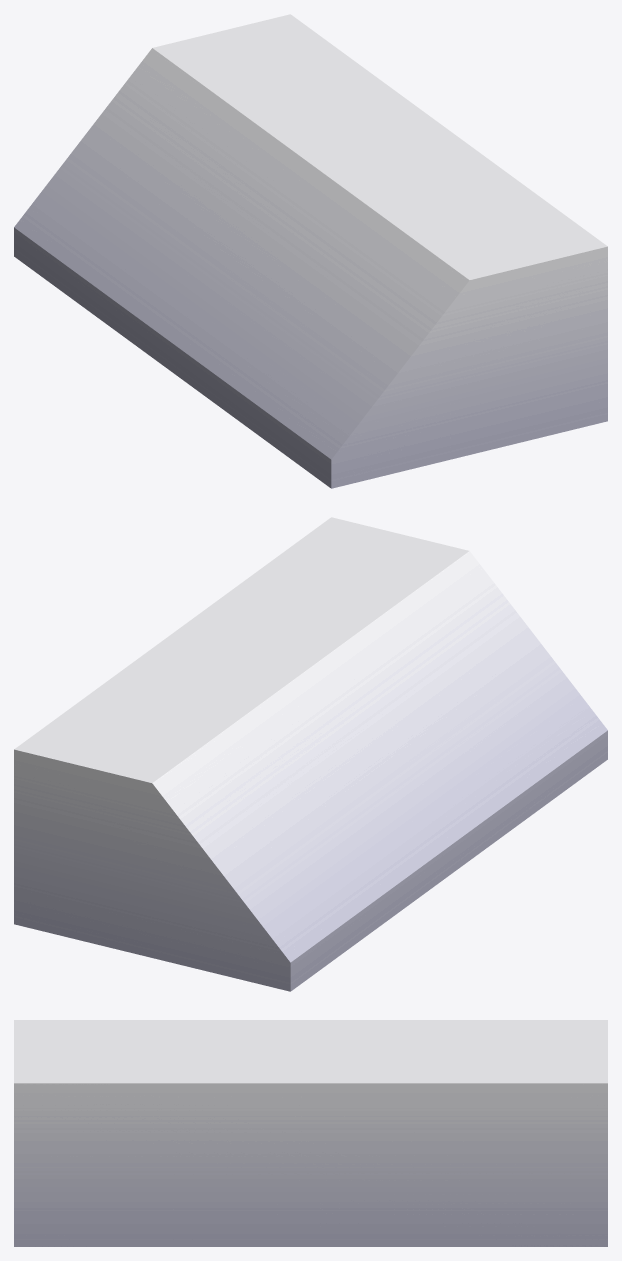
File: none-lq-brick-slope-2x4.glb
The picture shows the model from 3 angles, top to bottom: view 1: azimuth 30°, elevation 25°; view 2: azimuth 150°, elevation 25°; view 3: azimuth 270°, elevation 25°; orthographic projection. The views are drawn at different scales.
Visible parts, largest first — view 1: none-lq-brick-slope-2x4; view 2: none-lq-brick-slope-2x4; view 3: none-lq-brick-slope-2x4.
Boxes of the visible parts, box(x1,y1,x2,y2) form: none-lq-brick-slope-2x4: box(14, 14, 607, 488); none-lq-brick-slope-2x4: box(14, 517, 607, 991); none-lq-brick-slope-2x4: box(14, 1020, 607, 1246).
Bounding box in the file's own units: 0.159 × 0.096 × 0.316.
1 material, 1 textured.
